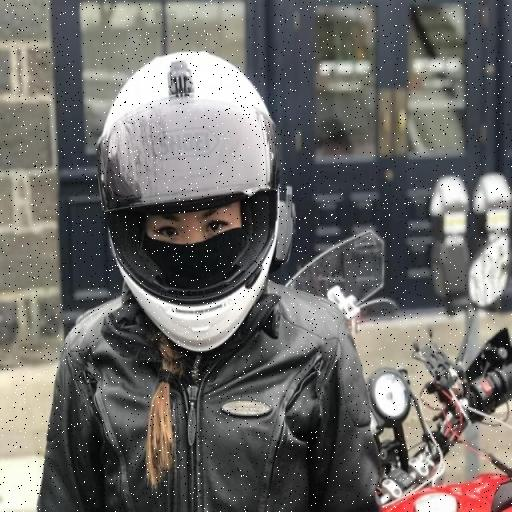Helmet: (98, 48, 278, 349)
